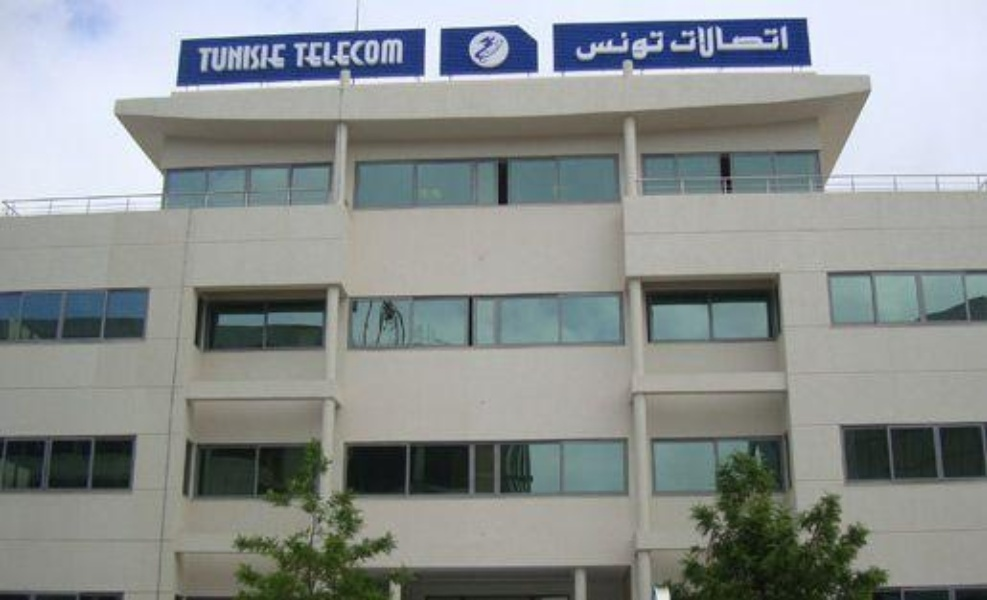text: (673, 22, 688, 62), (689, 22, 704, 62), (705, 22, 720, 62), (721, 22, 736, 62), (737, 22, 752, 62), (753, 22, 768, 62), (769, 22, 784, 62), (577, 29, 592, 64), (593, 29, 608, 64), (609, 29, 624, 64), (625, 29, 640, 64), (641, 29, 656, 64), (209, 41, 224, 75), (225, 41, 240, 75), (241, 41, 256, 75), (257, 41, 272, 75), (273, 41, 288, 75), (305, 37, 320, 71), (321, 37, 336, 71), (337, 37, 352, 71), (353, 37, 368, 71), (369, 37, 384, 71), (385, 37, 400, 71), (196, 41, 208, 75), (785, 22, 794, 62), (294, 37, 304, 71), (657, 29, 666, 64), (666, 22, 672, 62), (401, 37, 407, 71), (572, 29, 576, 64)
